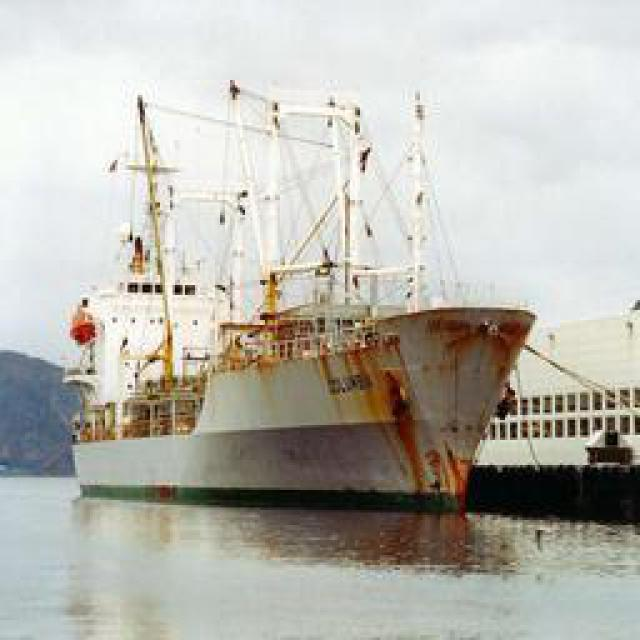Ship: (49, 75, 542, 508)
